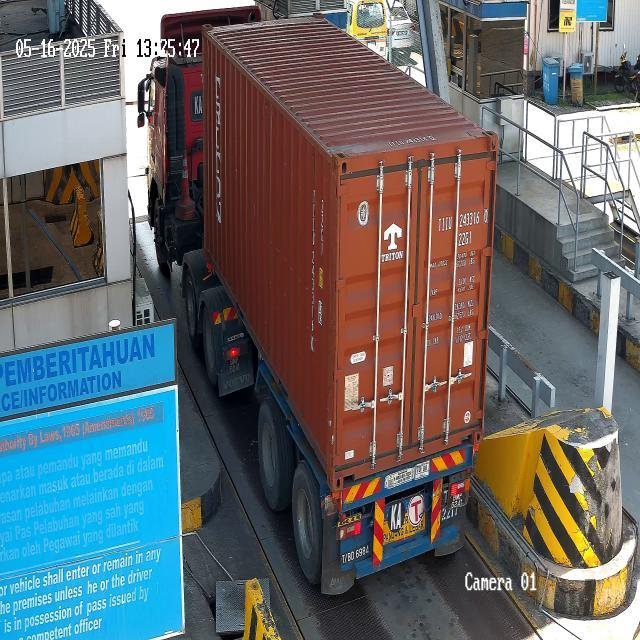ISO: (318, 190, 330, 250), (453, 228, 476, 244)
container_number: (305, 190, 316, 354), (436, 204, 492, 234)
